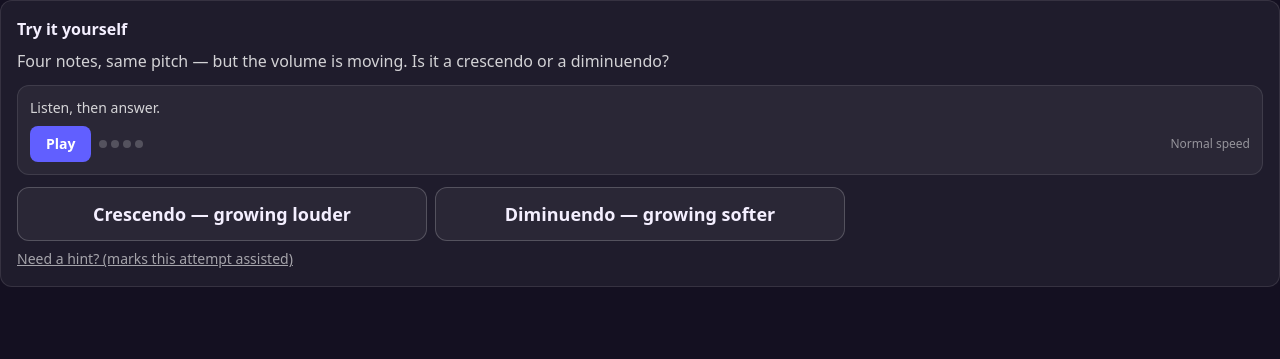
Test: new choice families in TaskPlayer › dynamics-id renders and judges the gain direction
Step 1. Click the button "Crescendo — growing louder" → (222, 214), box [17,187,427,241]
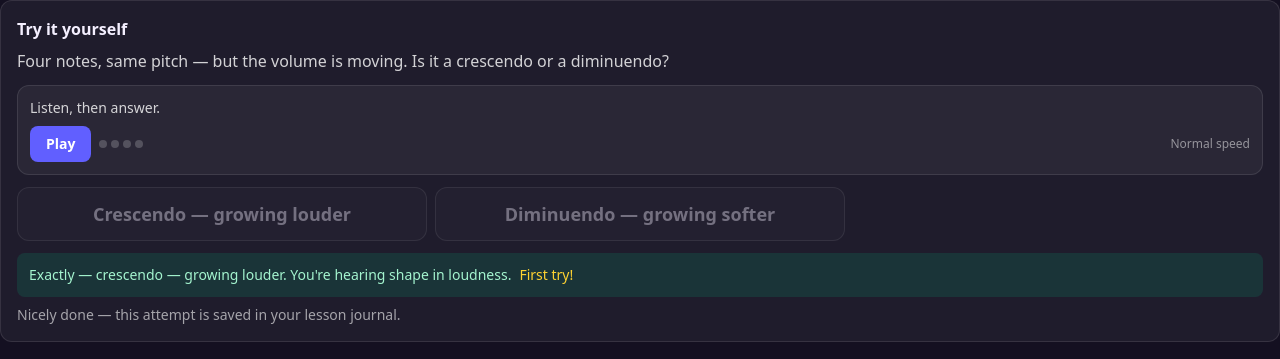
Check: the text "You're hearing shape in loudness" is shown, box [29,265,511,284]
